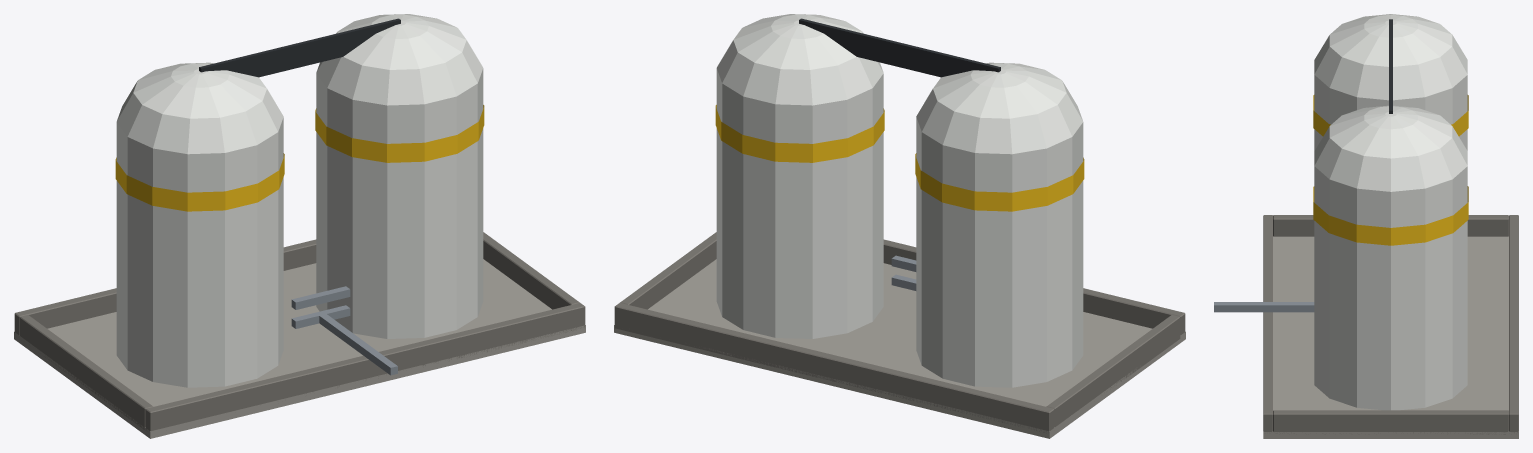
File: Scenery_TankPair.fbx
3 renders of one model, left to right at view 1: azimuth 30°, elevation 25°; view 2: azimuth 150°, elevation 25°; view 3: azimuth 270°, elevation 25°, orthographic. The views are drawn at different scales.
Visible parts, largest first — view 1: Scenery_TankPair; view 2: Scenery_TankPair; view 3: Scenery_TankPair.
Part boxes in pixels (box(x1,y1,x2,y2)): Scenery_TankPair: box(14, 14, 585, 438); Scenery_TankPair: box(614, 14, 1185, 438); Scenery_TankPair: box(1214, 14, 1518, 438).
Size of the model in its own units: 24 by 15.4 by 15.5.
